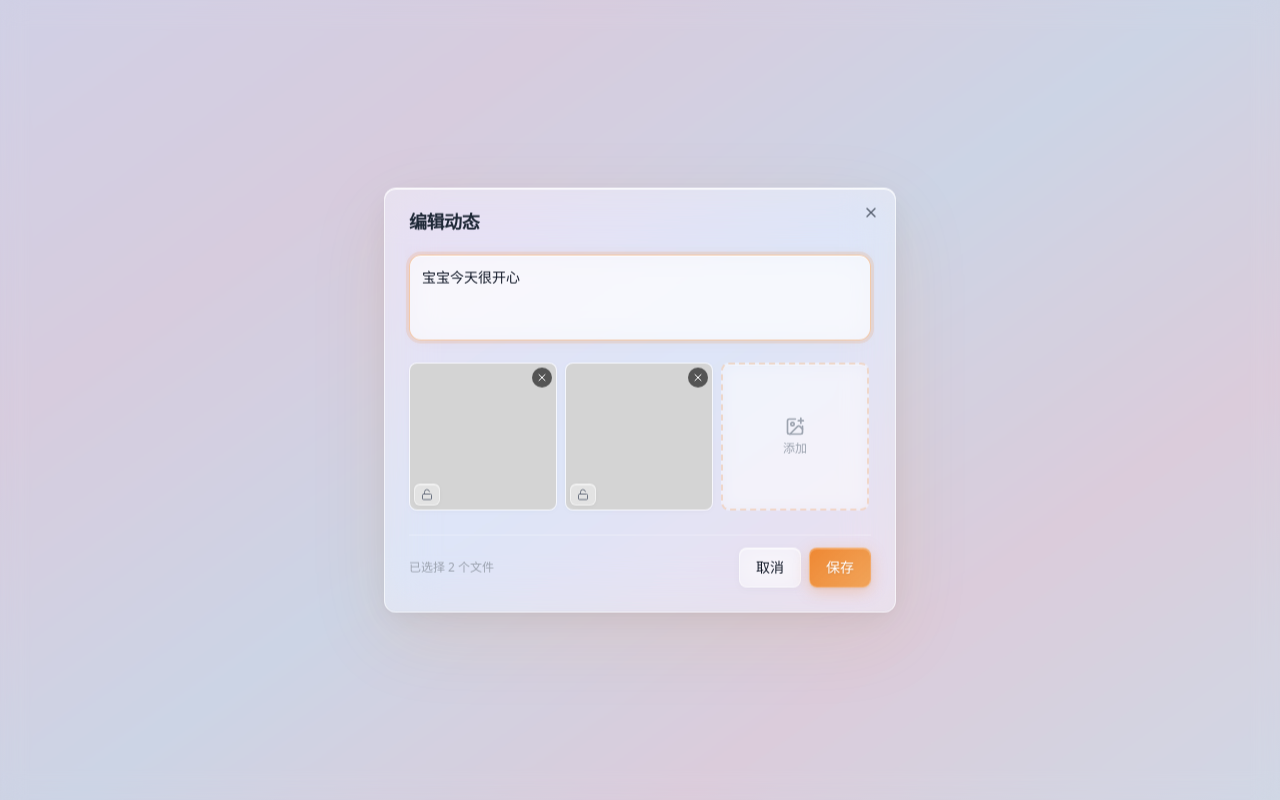
Test case: MomentFormDialog › restores the upload zone after all existing photos are removed
This screenshot has width=1280, height=800.
Check: the text "添加" is shown, box left=783, top=440, right=807, bottom=456
Check: the text "点击添加照片 / 视频" is not shown
Click the 1st button named "删除".
click(542, 378)  # box left=532, top=368, right=552, bottom=388
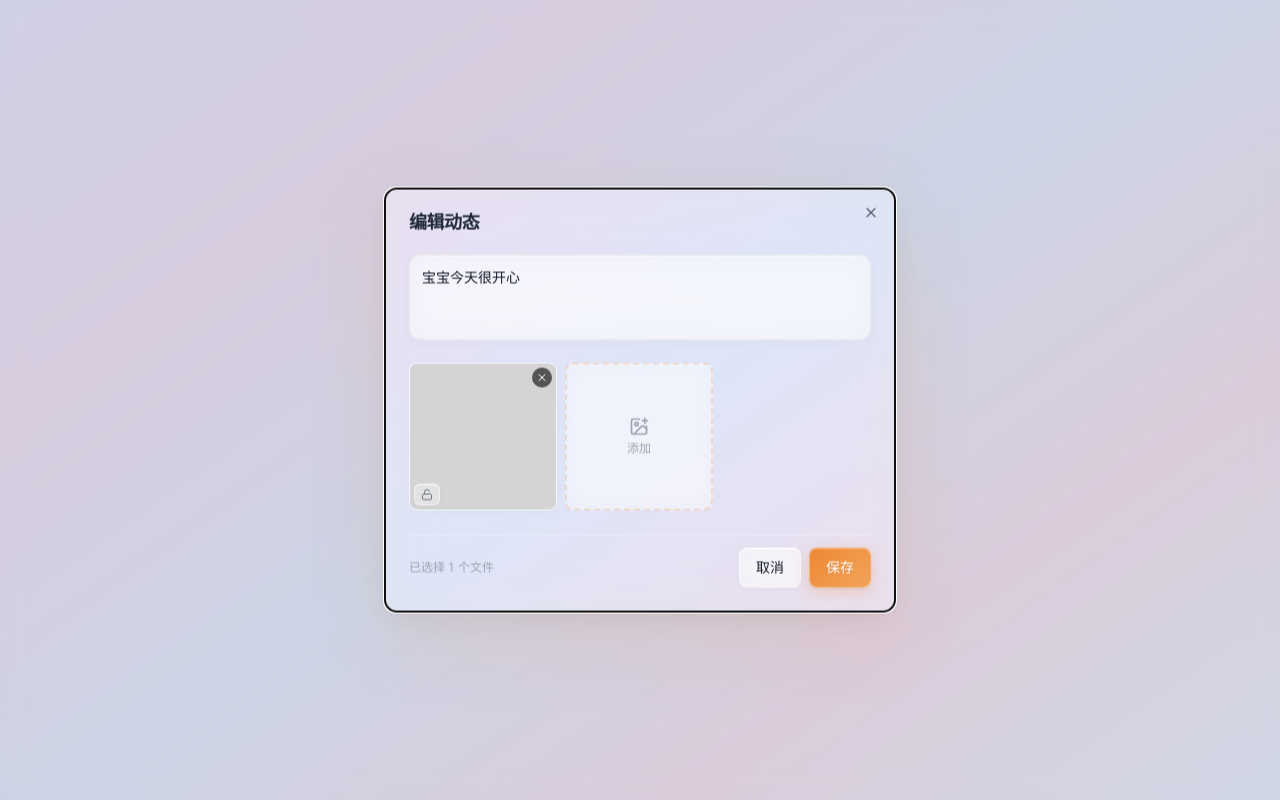
Click the button named "删除".
click(542, 378)  # box left=532, top=368, right=552, bottom=388
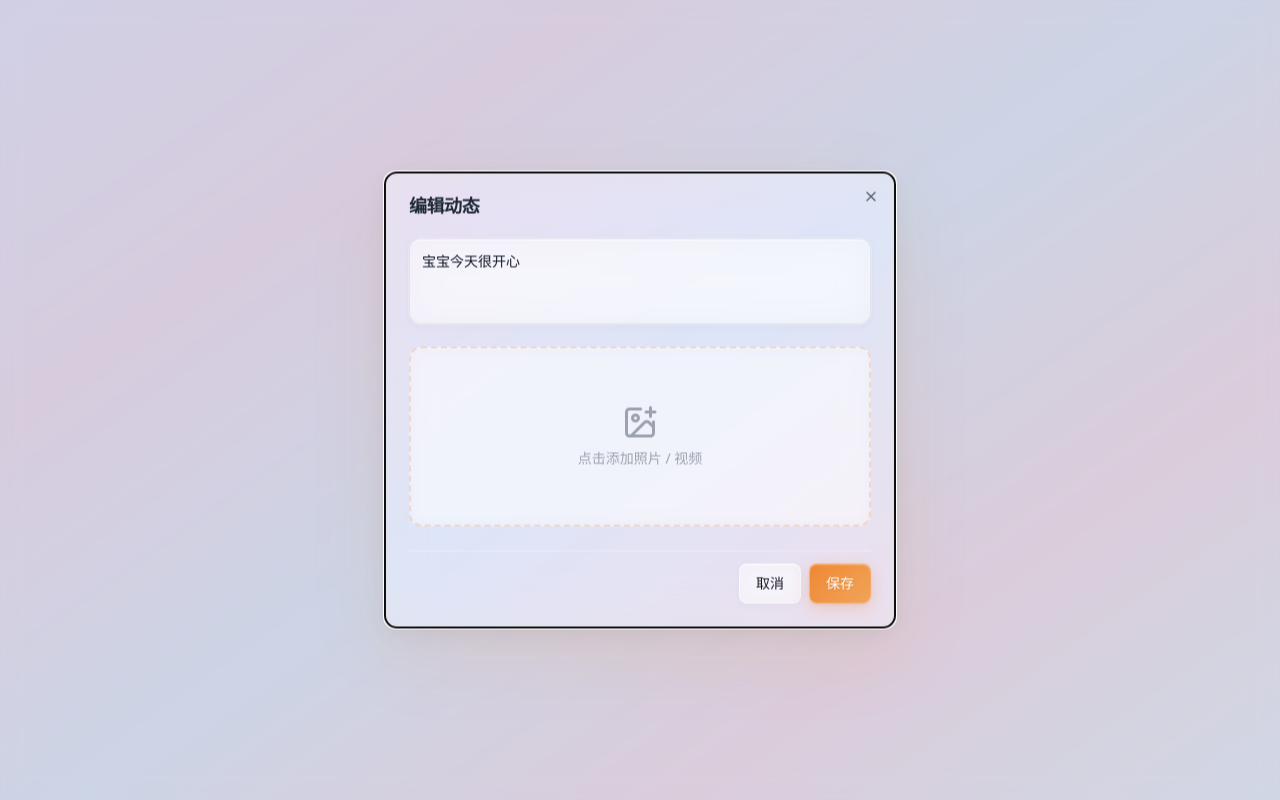
Check: the text "点击添加照片 / 视频" is shown, box left=578, top=448, right=702, bottom=468
